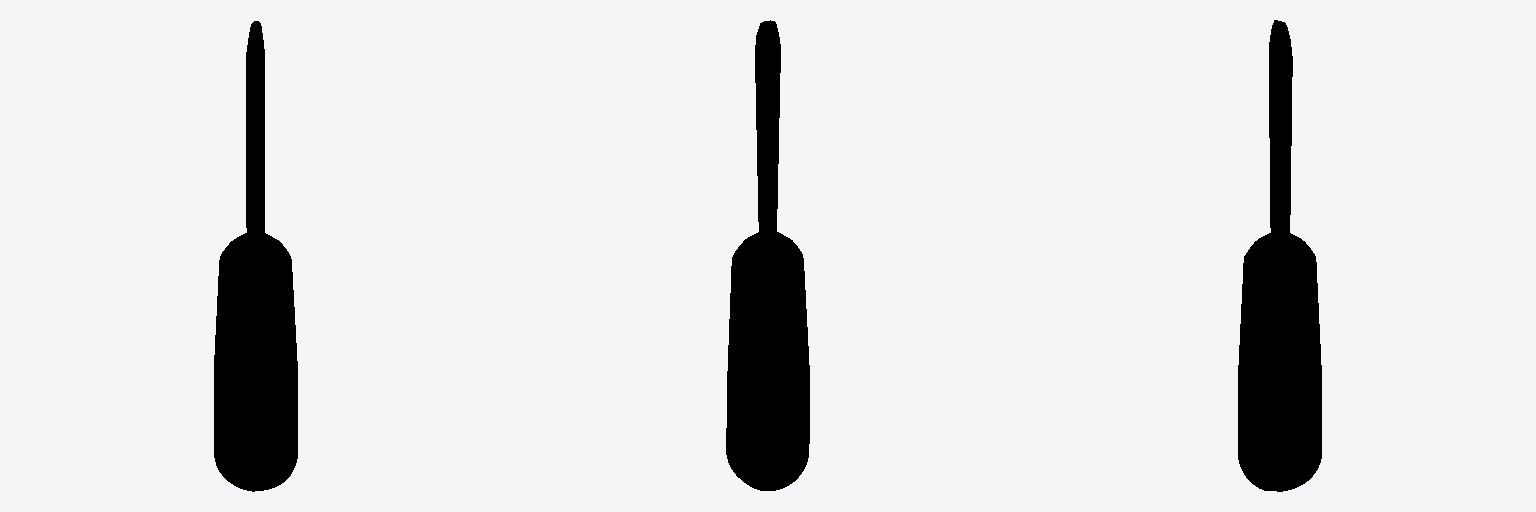
URDF robot description (graspnet-020):

<robot name="graspnet-020">
  <link name="link_graspnet-020">
    <inertial>
      <origin xyz="0 0 0" rpy="0 0 0"/>
    </inertial>
    <visual>
      <origin xyz="0 0 0" rpy="0 0 0"/>
      <geometry>
        <mesh filename="decomposed.obj"/>
      </geometry>
      <material name="">
        <color rgba="0 0 0 1"/>
      </material>
    </visual>
    <collision>
      <origin xyz="0 0 0" rpy="0 0 0"/>
      <geometry>
        <mesh filename="decomposed.obj"/>
      </geometry>
    </collision>
  </link>
</robot>

--- Facts derived from the render (not from the file) ---
The picture shows the robot from 3 angles, left to right: view 1: azimuth 30°, elevation 25°; view 2: azimuth 150°, elevation 25°; view 3: azimuth 270°, elevation 25°; orthographic projection.
Robot: graspnet-020 — 1 links, 0 joints (none); root link link_graspnet-020; default pose: all joints at 0.
Links seen in each view (by area): view 1: link_graspnet-020; view 2: link_graspnet-020; view 3: link_graspnet-020.
Link boxes in pixels (left/top/right/bottom): link_graspnet-020: left=214, top=21, right=297, bottom=491; link_graspnet-020: left=726, top=20, right=809, bottom=490; link_graspnet-020: left=1238, top=20, right=1321, bottom=491.
Size in the robot's own frame: 0.0359 by 0.0361 by 0.2198 metres.
1 mesh visuals loaded from 1 distinct referenced files (1 OBJ).
